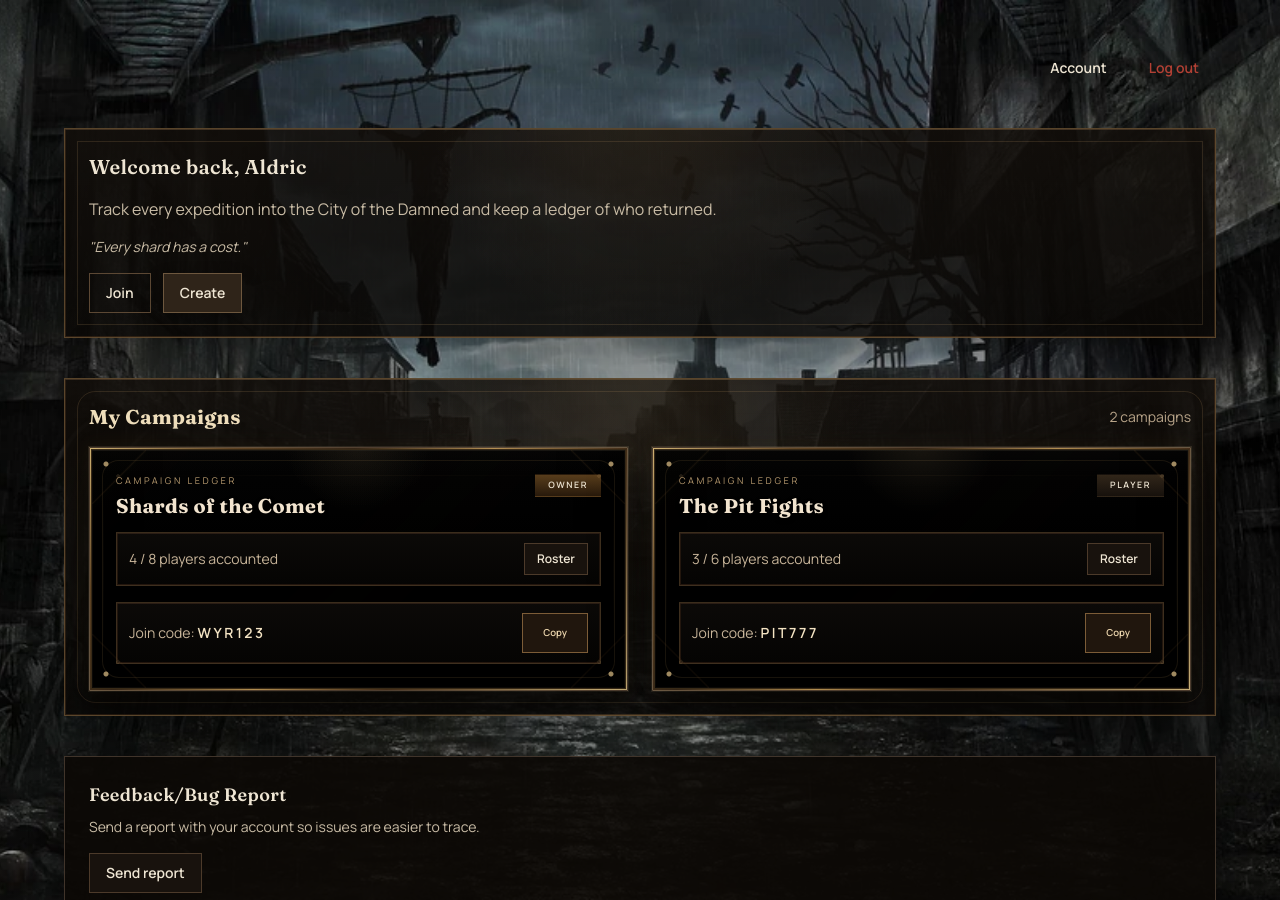
it: Campaigns list and the join code › keeps the dialog open with the server's refusal
Expected: the text "2 campaigns" is shown, [1110,407,1191,427]
Click the button "Join": (120, 293) [89,273,151,313]
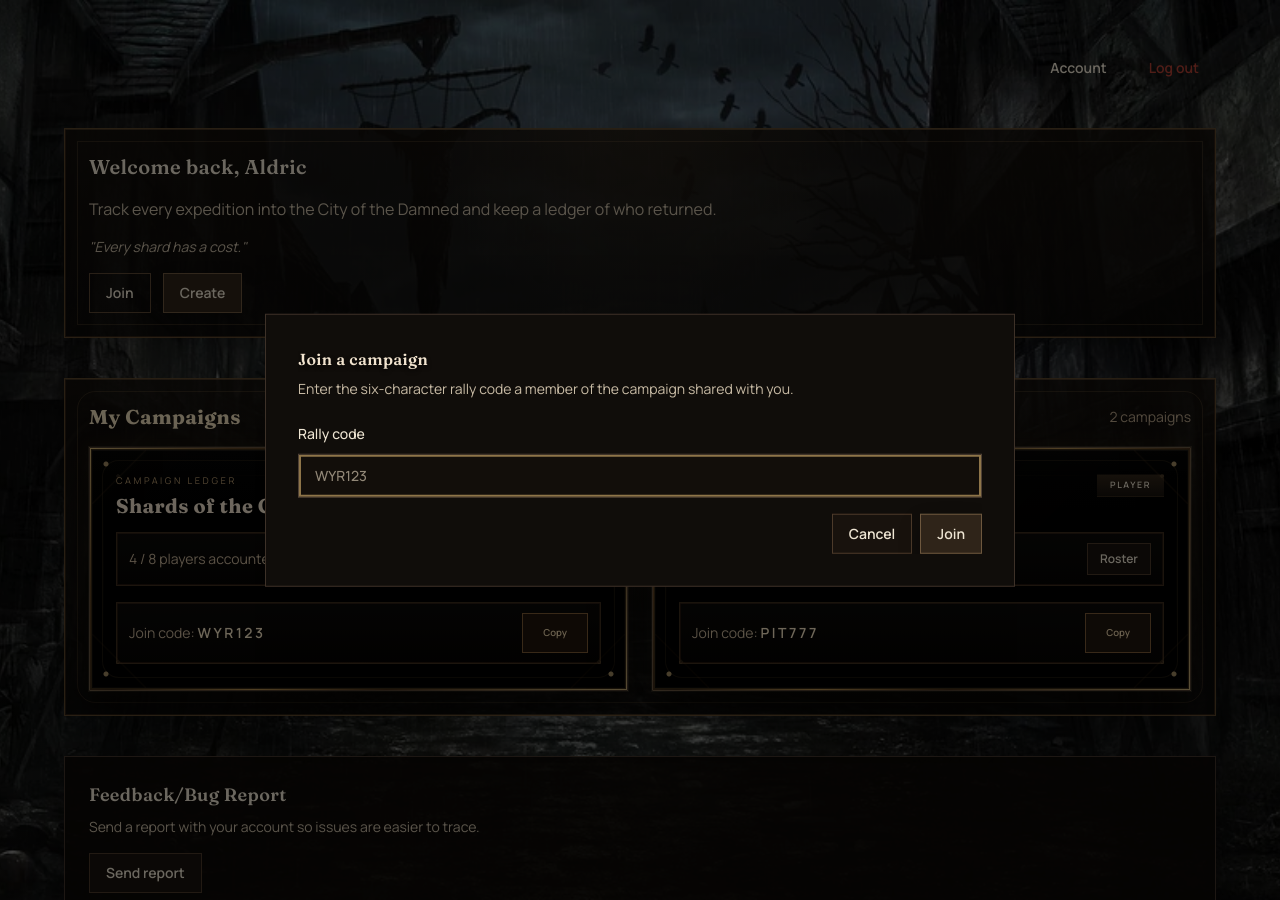
In the field labelled "Rally code": (640, 475) [298,453,982,497], type "wyr123"
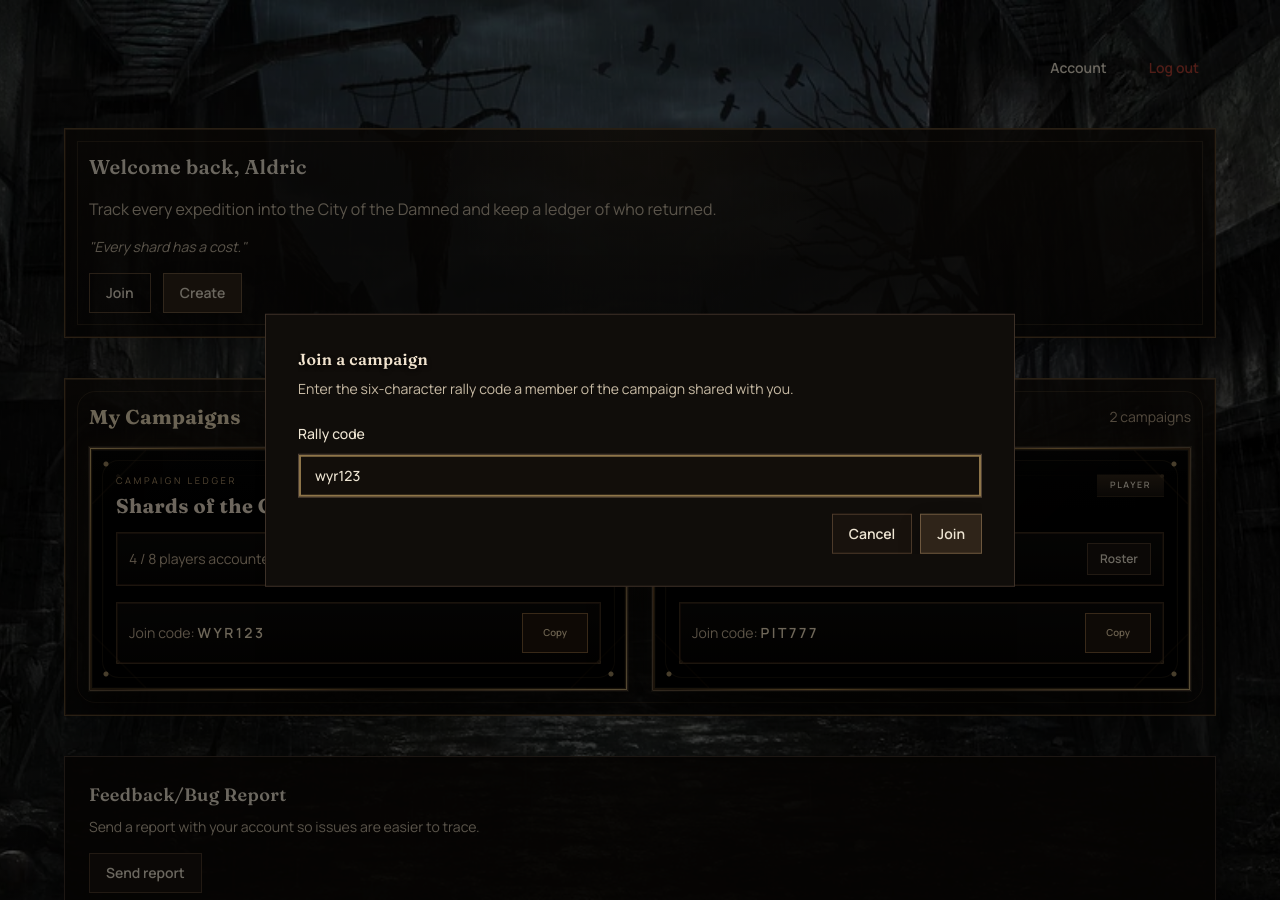
Click the button "Join": (951, 533) [920,513,982,553]
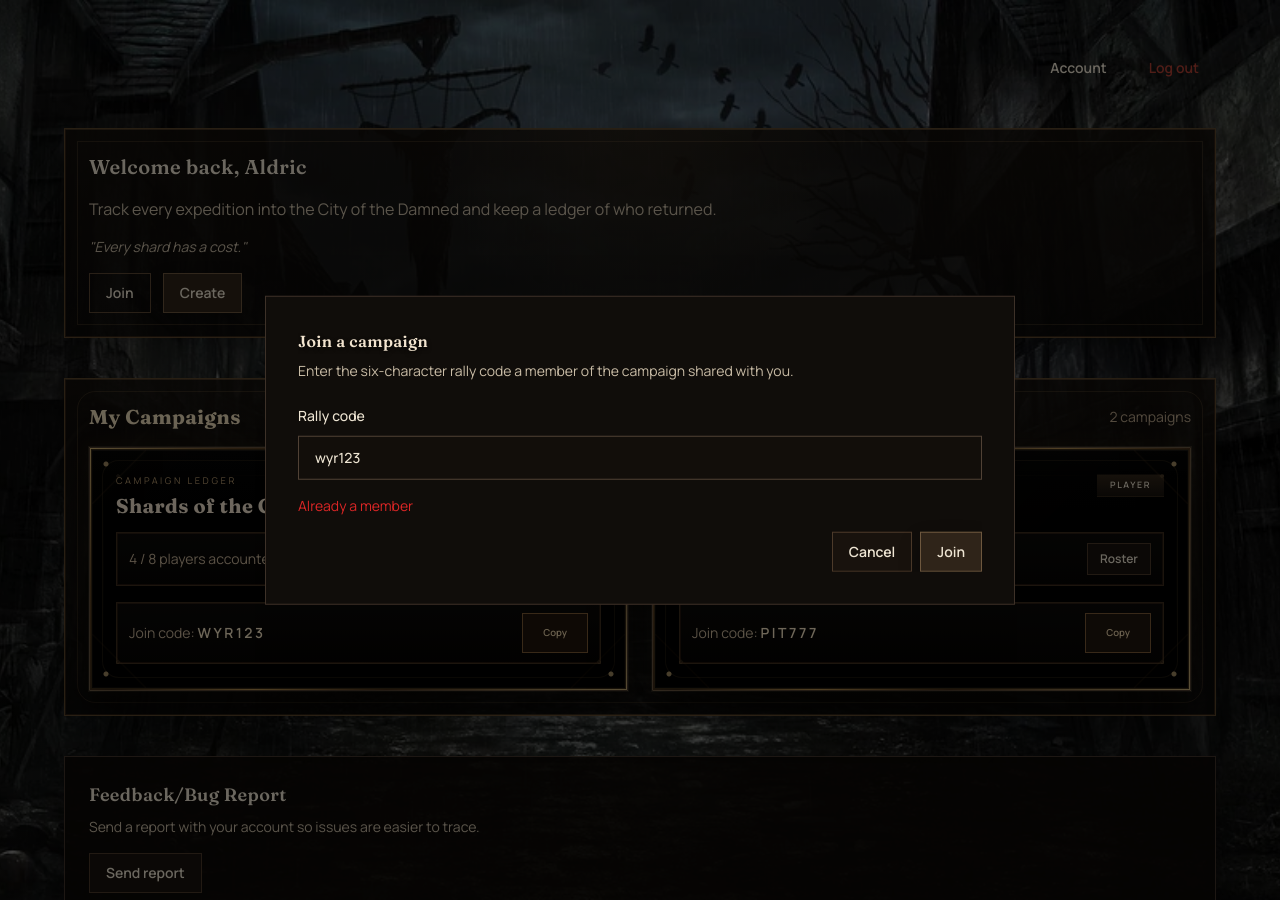
Expected: the text "2 campaigns" is shown, [1110,407,1191,427]
Expected: the text "Already a member" is shown, [298,495,413,514]
